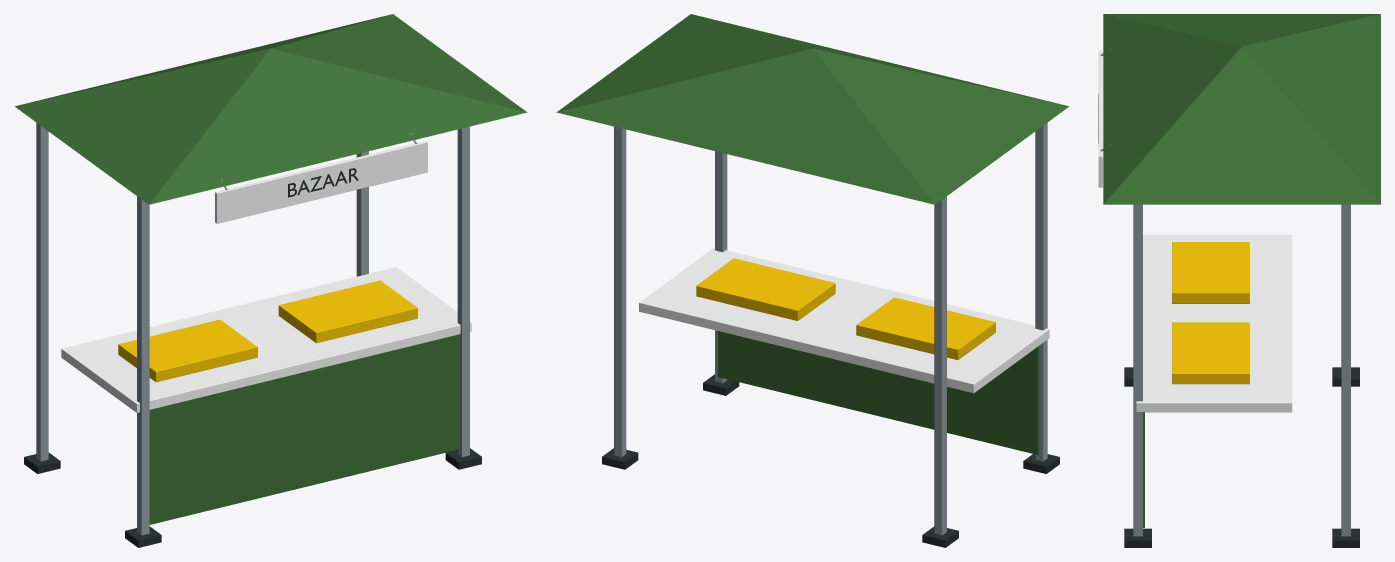
The model's file is source-edit.glb.
3 views of the same model, side by side, from view 1: azimuth 30°, elevation 25°; view 2: azimuth 150°, elevation 25°; view 3: azimuth 270°, elevation 25° (orthographic). The views are drawn at different scales.
Visible parts, largest first — view 1: Awning, Front_Apron, Counter, Signboard, Empty_Display_Tray.001, Empty_Display_Tray, Leg.001, Leg, Leg.002, Leg.003; view 2: Awning, Counter, Front_Apron, Empty_Display_Tray.001, Empty_Display_Tray, Leg.001, Leg.003, Leg, Leg.002; view 3: Awning, Counter, Empty_Display_Tray.001, Empty_Display_Tray, Leg.003, Leg.002, Signboard, Foot.002, Foot.003, Foot.001.
Boxes of the visible parts, x1,y1,x2,y2 form: Awning: [15, 14, 527, 204]; Front_Apron: [149, 334, 459, 524]; Counter: [61, 267, 471, 412]; Signboard: [215, 140, 427, 223]; Empty_Display_Tray.001: [278, 280, 417, 343]; Empty_Display_Tray: [118, 319, 257, 382]; Leg.001: [36, 123, 48, 461]; Leg: [137, 196, 149, 535]; Leg.002: [457, 126, 469, 457]; Leg.003: [356, 151, 368, 276]; Awning: [556, 14, 1068, 204]; Counter: [639, 247, 1049, 393]; Front_Apron: [718, 331, 1039, 454]; Empty_Display_Tray.001: [696, 258, 835, 320]; Empty_Display_Tray: [856, 297, 995, 359]; Leg.001: [934, 196, 946, 535]; Leg.003: [614, 126, 626, 457]; Leg: [1035, 123, 1047, 461]; Leg.002: [715, 151, 727, 383]; Awning: [1103, 14, 1380, 204]; Counter: [1136, 234, 1292, 412]; Empty_Display_Tray.001: [1172, 322, 1249, 384]; Empty_Display_Tray: [1172, 242, 1249, 303]; Leg.003: [1341, 204, 1350, 536]; Leg.002: [1133, 204, 1142, 536]; Signboard: [1098, 50, 1102, 187]; Foot.002: [1124, 528, 1151, 547]; Foot.003: [1332, 528, 1359, 547]; Foot.001: [1332, 367, 1359, 386].
Bounding box in the file's own units: 2.6 × 2.7 × 1.63.
